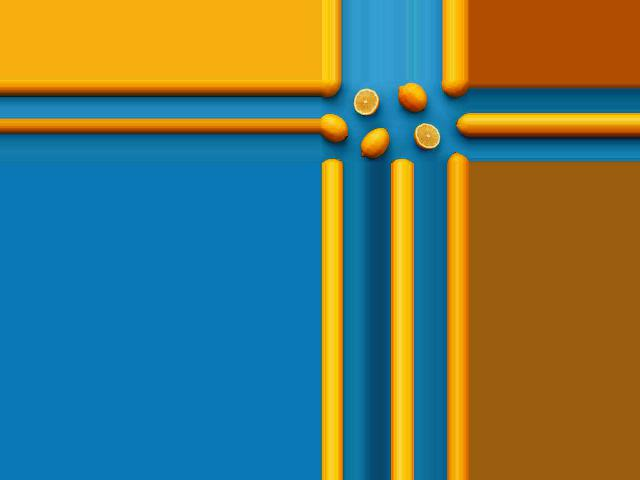lemon: (319, 81, 344, 100)
